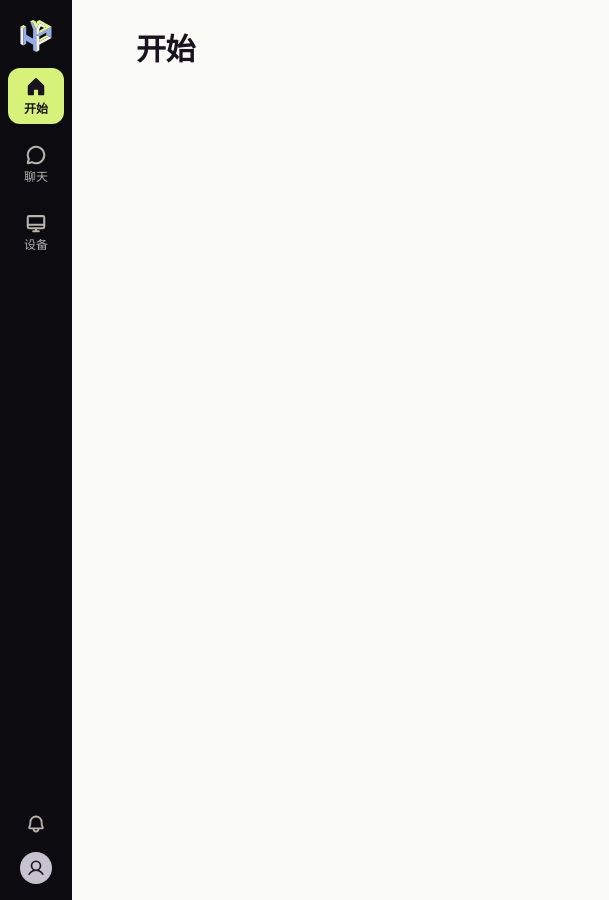
it: settings convergence under fixture capabilities › drives the settings account states through the empty account fixture
The width and height of the screenshot is (609, 900).
Click the button named "我的账号与 Agent 设置菜单": {"x": 36, "y": 868} top-left (16, 848), bottom-right (56, 888)
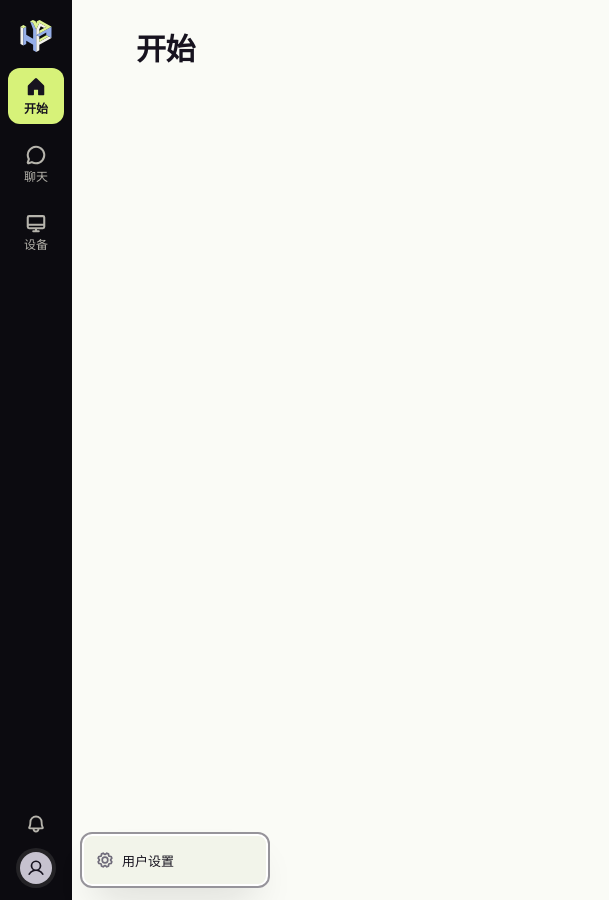
Click the menu item "用户设置": {"x": 175, "y": 860} top-left (84, 836), bottom-right (266, 884)
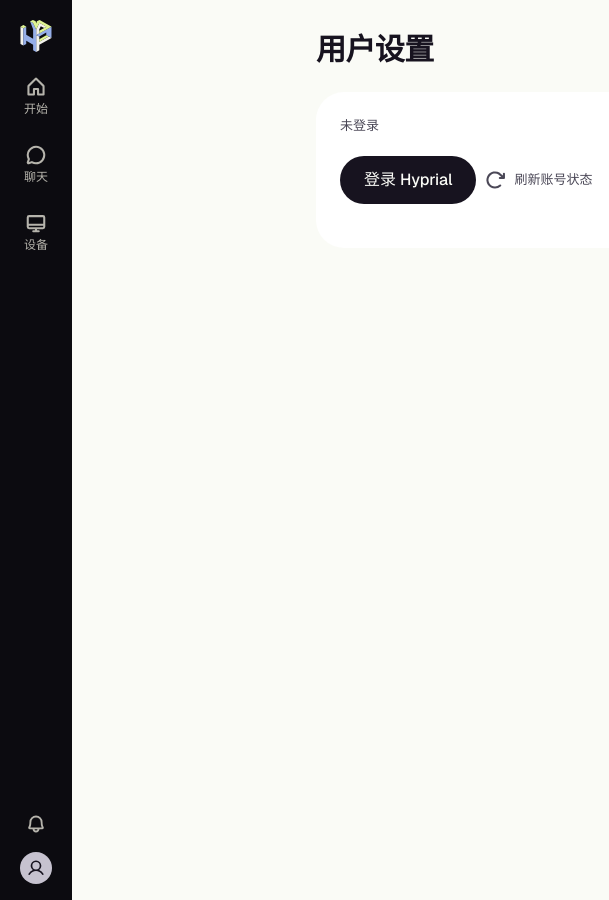
Expected: the text "未登录" is shown, top-left (340, 117), bottom-right (379, 134)
